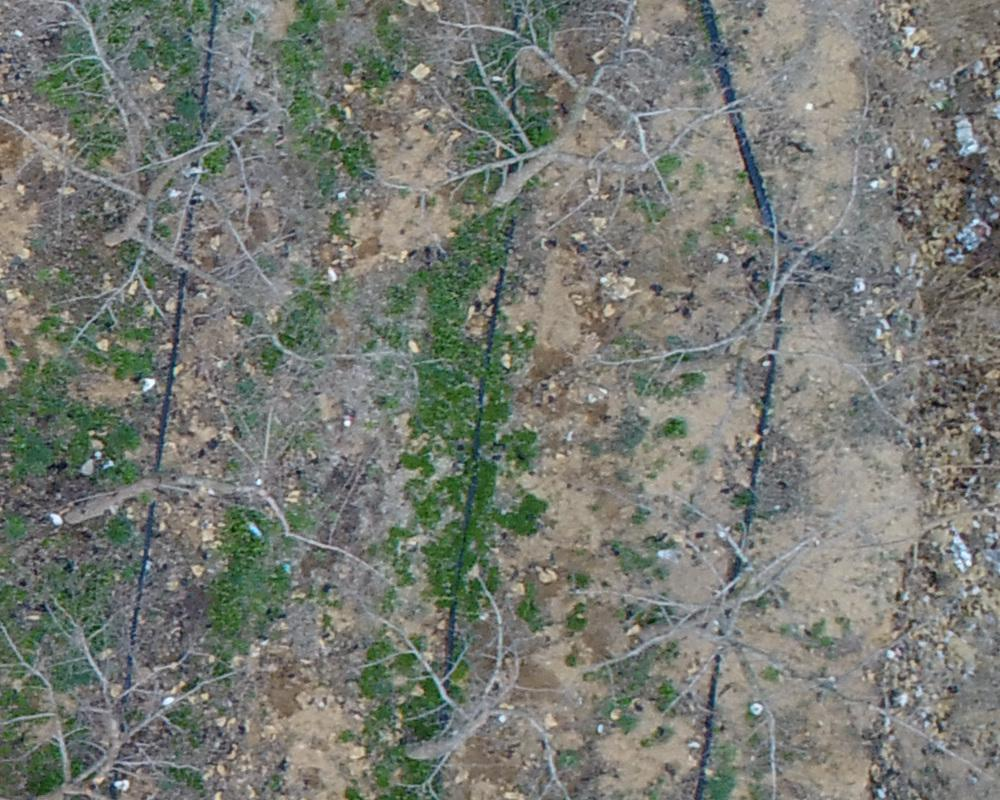apple: (10, 10, 399, 376), (559, 496, 950, 790), (552, 92, 902, 414), (19, 348, 423, 609), (391, 10, 769, 240), (357, 561, 597, 790)
